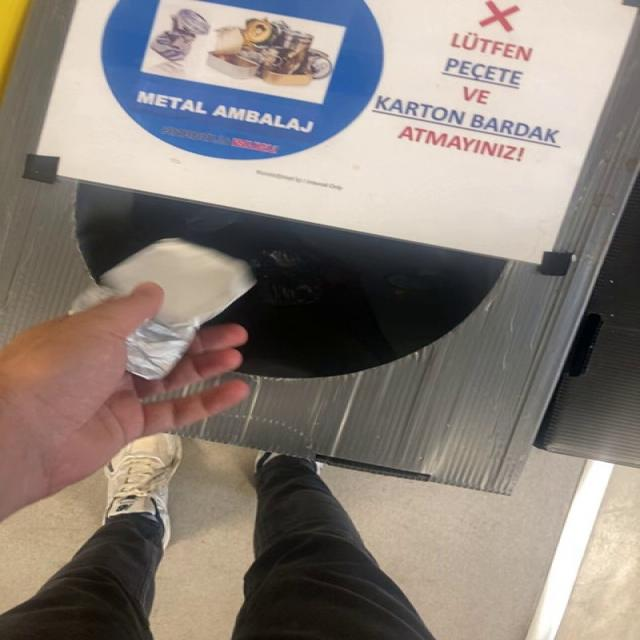bin: (1, 0, 640, 494)
metal: (100, 238, 256, 326)
